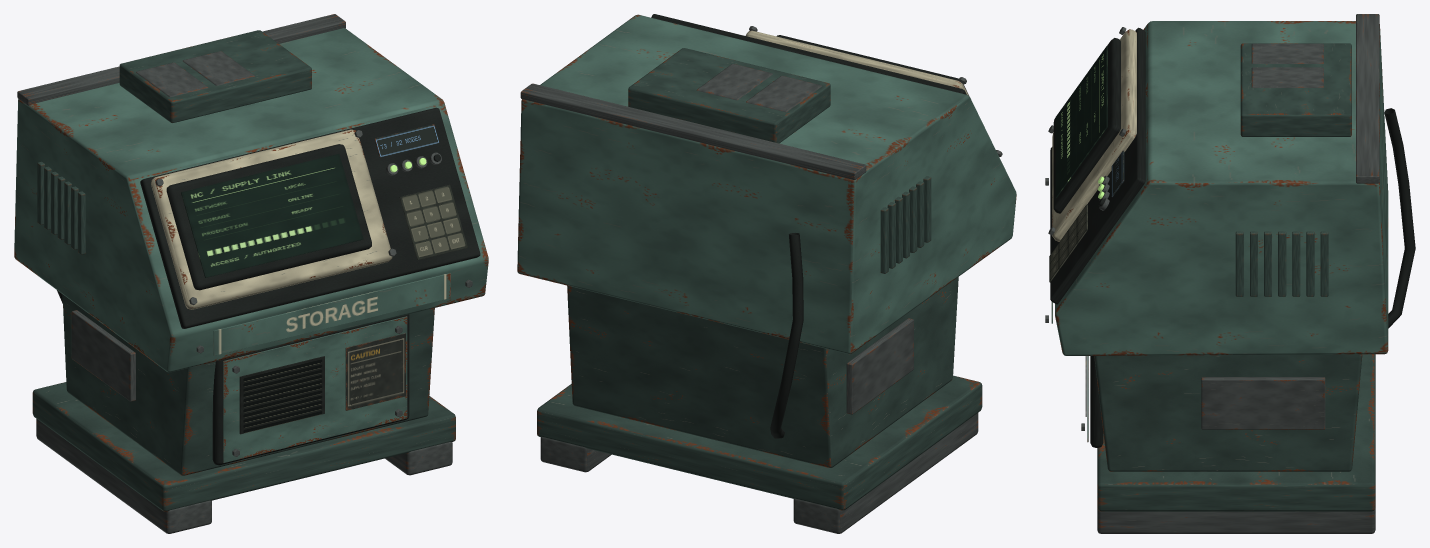
Rendered from NC_Storage_T3.fbx.
3 renders of one model, left to right at view 1: azimuth 30°, elevation 25°; view 2: azimuth 150°, elevation 25°; view 3: azimuth 270°, elevation 25°, orthographic. The views are drawn at different scales.
Parts seen in each view (by area): view 1: NC_Storage_T3_LOD0; view 2: NC_Storage_T3_LOD0; view 3: NC_Storage_T3_LOD0.
Part boxes in pixels (x1,y1,x2,y2): NC_Storage_T3_LOD0: (14,14,488,533); NC_Storage_T3_LOD0: (517,14,1016,533); NC_Storage_T3_LOD0: (1045,14,1415,533).
Size of what is drawn, in the model's own units: 0.925 by 0.992 by 0.8654.
1 material, 1 textured.
